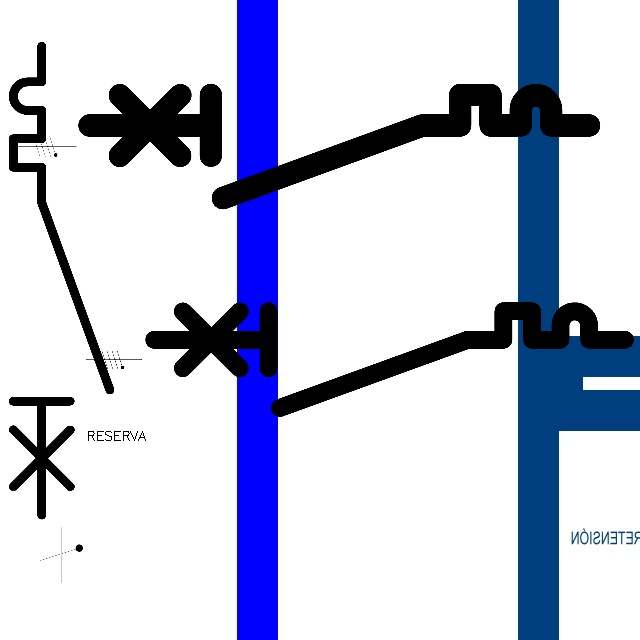interruptor_termomagnetico: (76, 82, 602, 210), (142, 299, 637, 420), (1, 34, 122, 527)
